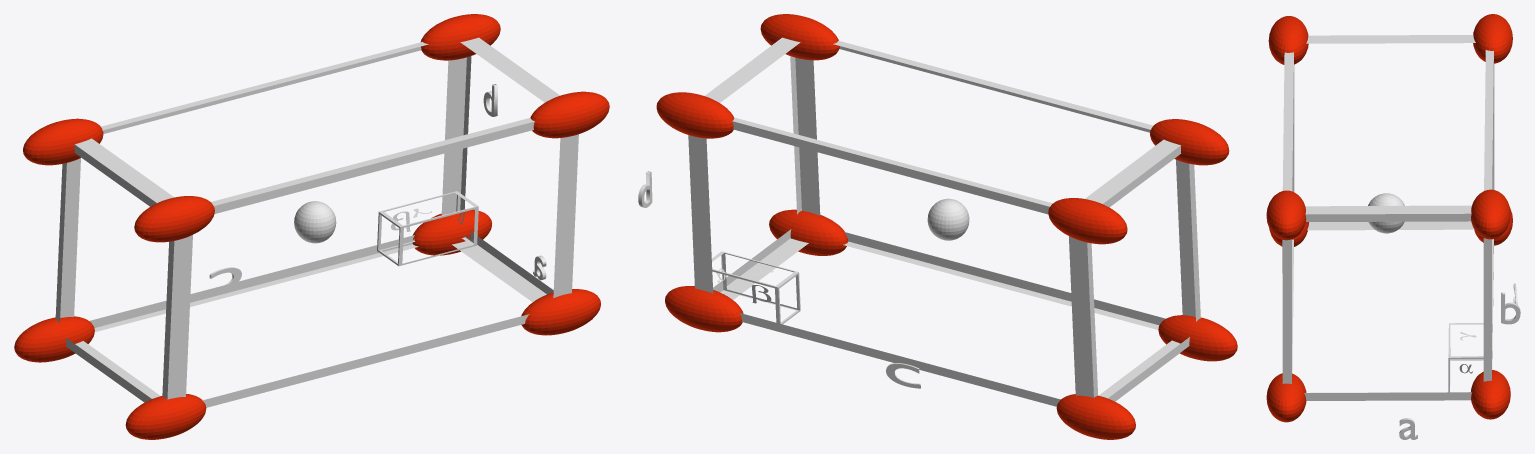
Rendered from quadratique2.fbx.
3 renders of one model, left to right at view 1: azimuth 30°, elevation 25°; view 2: azimuth 150°, elevation 25°; view 3: azimuth 270°, elevation 25°, orthographic. The views are drawn at different scales.
Parts seen in each view (by area): view 1: Sphere; view 2: Sphere; view 3: Sphere.
Boxes of the visible parts, left/top/right/bottom form: Sphere: left=14, top=14, right=609, bottom=439; Sphere: left=638, top=14, right=1237, bottom=439; Sphere: left=1266, top=14, right=1520, bottom=439.
Bounding box in the file's own units: 1828 × 872 × 867.
